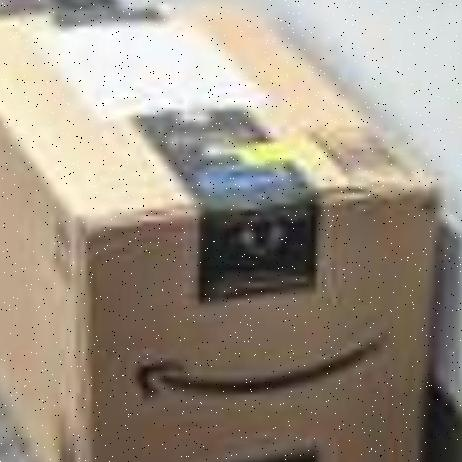Amazon: (0, 13, 419, 462)
